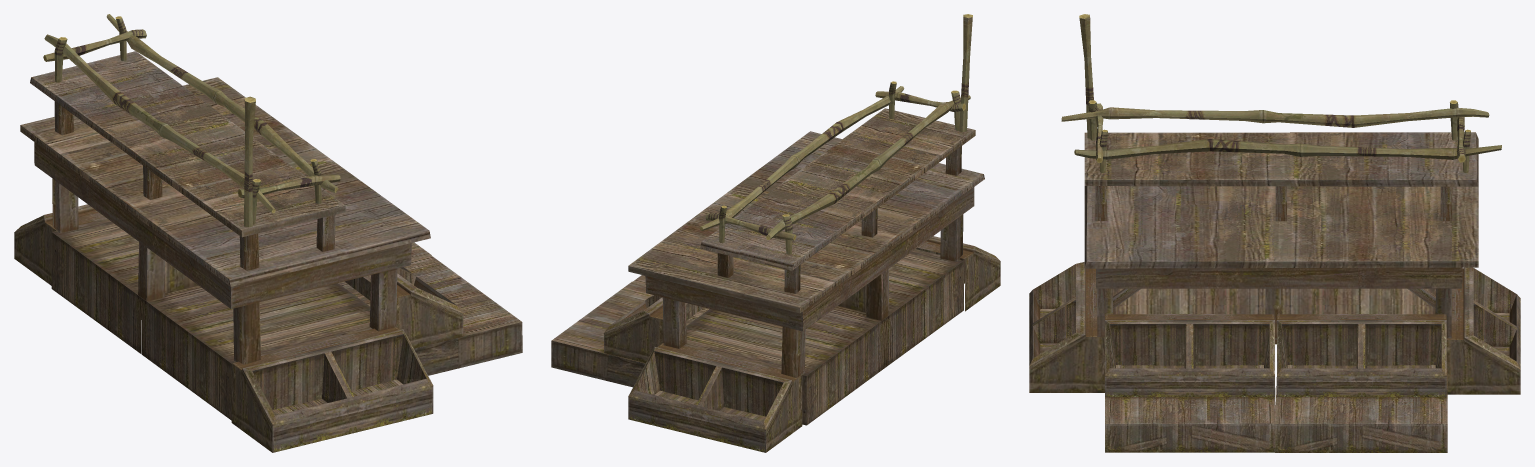
File: bg_anh_common_roadsidestand01_a_out.FBX
The picture shows the model from 3 angles, left to right: view 1: azimuth 30°, elevation 25°; view 2: azimuth 150°, elevation 25°; view 3: azimuth 270°, elevation 25°; orthographic projection. The views are drawn at different scales.
Parts seen in each view (by area): view 1: bg_anh_common_roadsidestand01_a_out; view 2: bg_anh_common_roadsidestand01_a_out; view 3: bg_anh_common_roadsidestand01_a_out.
Boxes of the visible parts, x1,y1,x2,y2 form: bg_anh_common_roadsidestand01_a_out: (14,14,522,452); bg_anh_common_roadsidestand01_a_out: (551,14,1000,452); bg_anh_common_roadsidestand01_a_out: (1029,14,1520,452).
Size of the model in its own units: 181 by 188 by 272.
